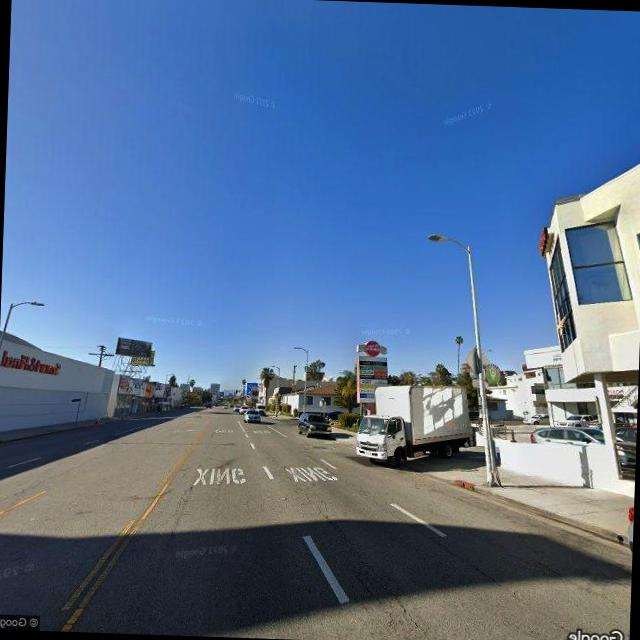crack: (302, 494, 455, 640)
